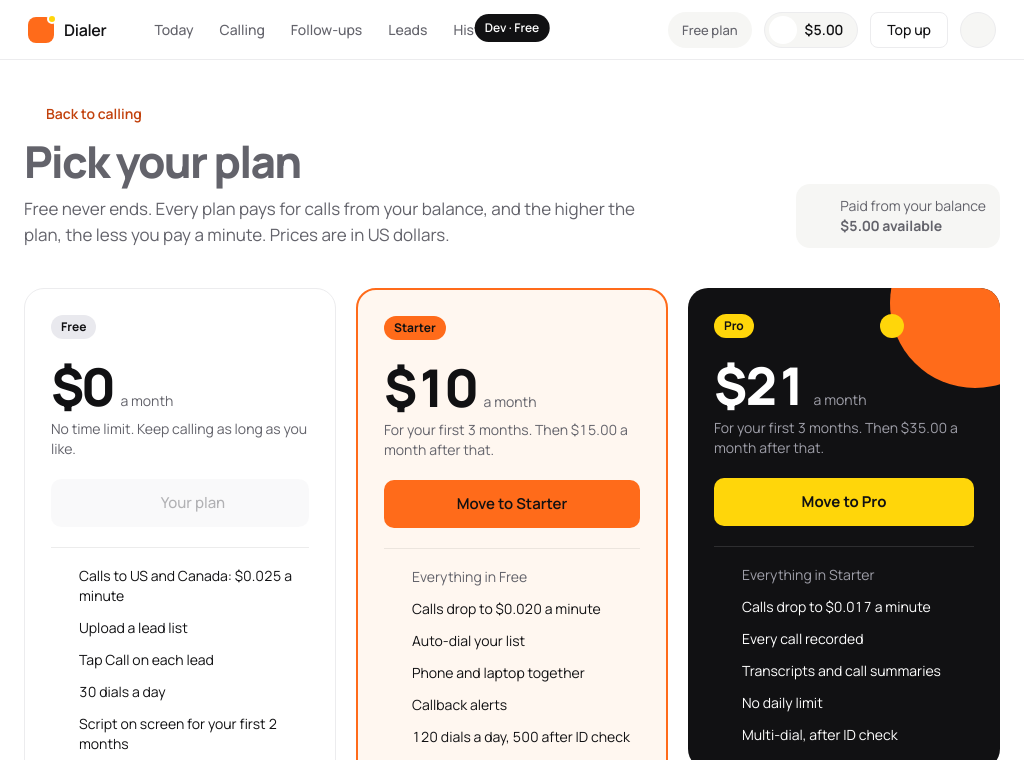
Test: live mode › an upgrade the balance can not cover asks for a top-up first
Click the button "Move to Starter" at (512, 504), box [384,480,640,528]
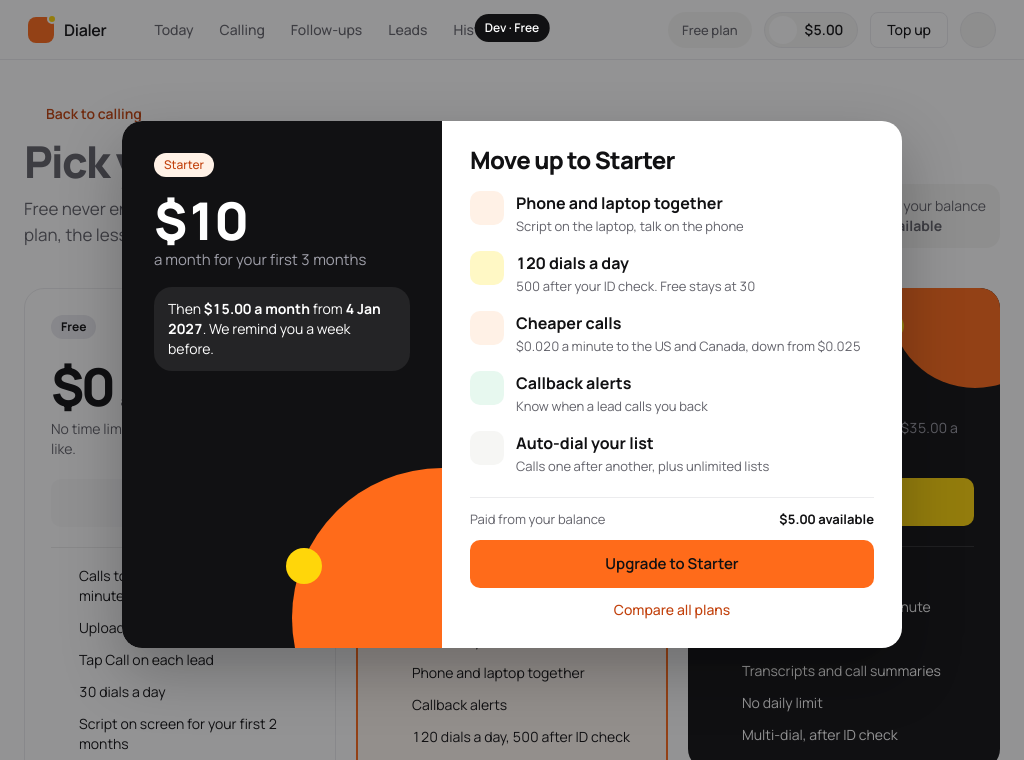
Click the button "Upgrade to Starter" at (672, 564), box [470,540,874,588]
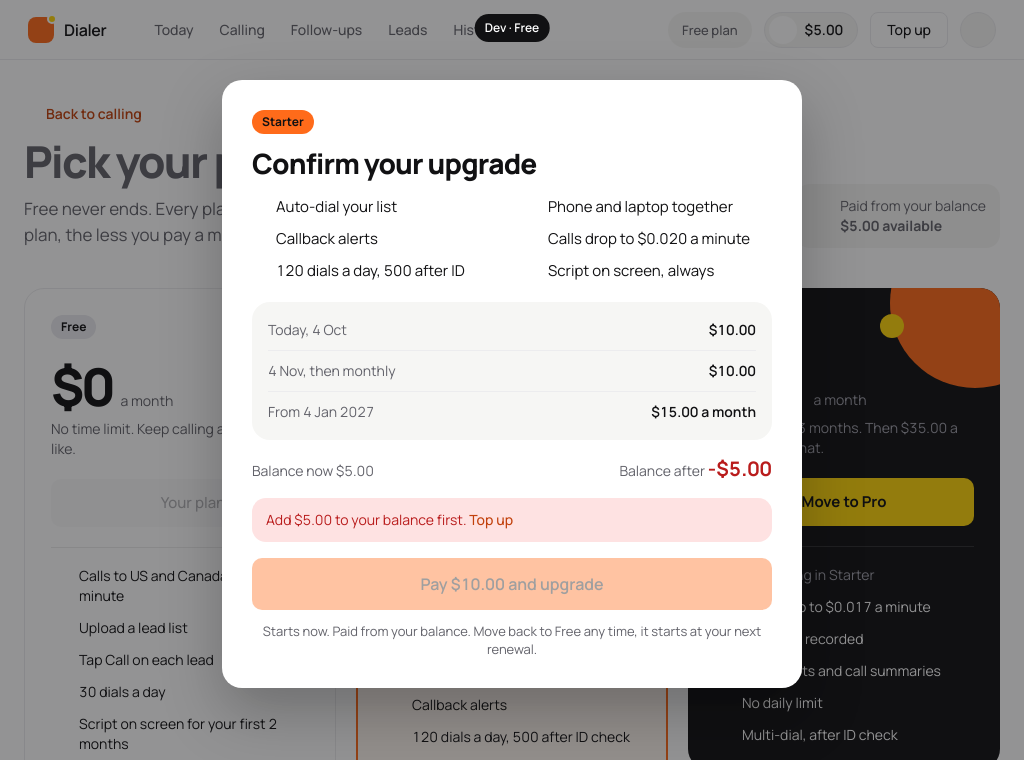
Expected: the text "Add $5.00 to your balance first. Top up" is shown, [266,510,513,530]
Expected: the button "Pay $10.00 and upgrade" is disabled, [252,558,772,610]
